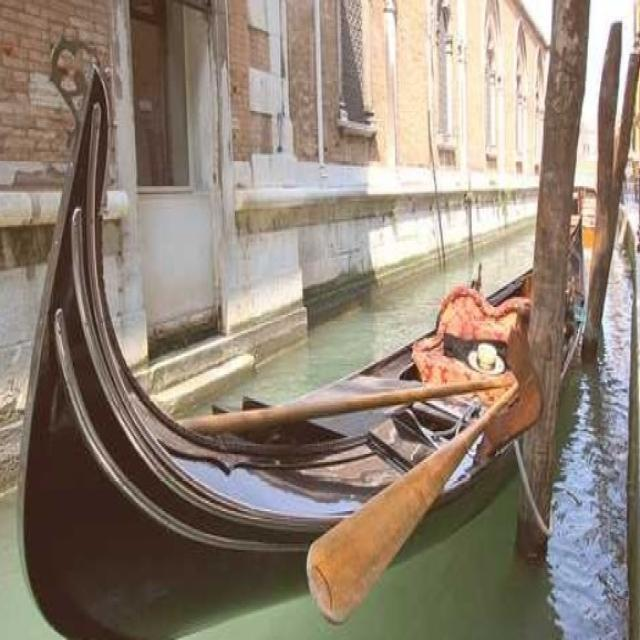boat: (11, 38, 597, 640)
